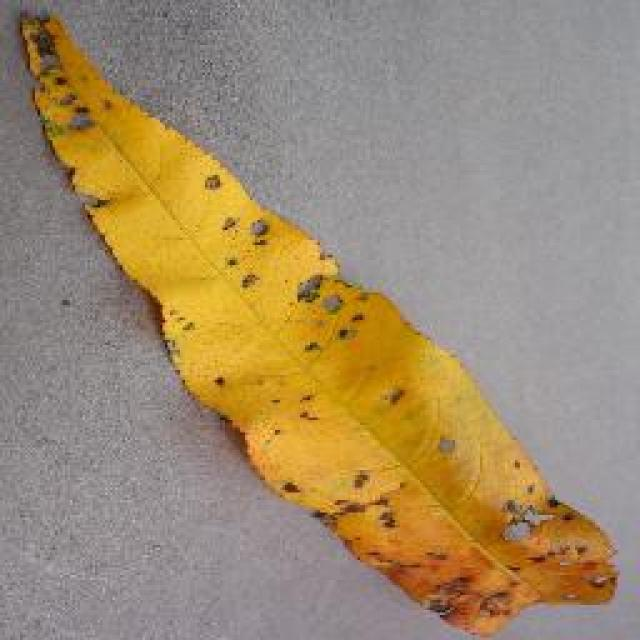Peach_Bacterial_Spot: (62, 64, 470, 544)
